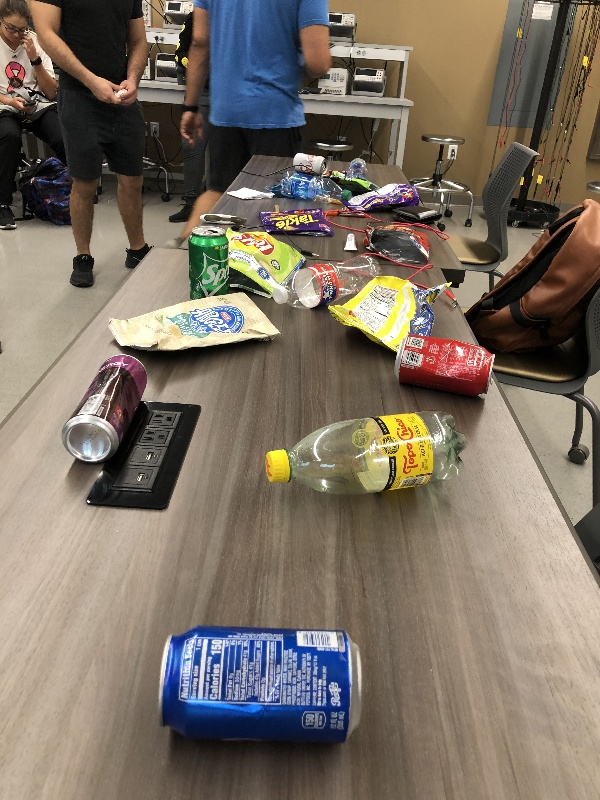bag: (103, 290, 281, 359), (322, 271, 453, 363), (229, 228, 310, 301), (254, 206, 334, 239), (346, 181, 424, 214), (318, 166, 380, 193)
bottle: (258, 409, 470, 497), (267, 250, 384, 311), (270, 168, 356, 209), (348, 154, 372, 181)
can: (152, 625, 368, 758), (57, 349, 151, 471), (391, 333, 501, 397), (184, 223, 233, 297), (289, 149, 329, 176)
